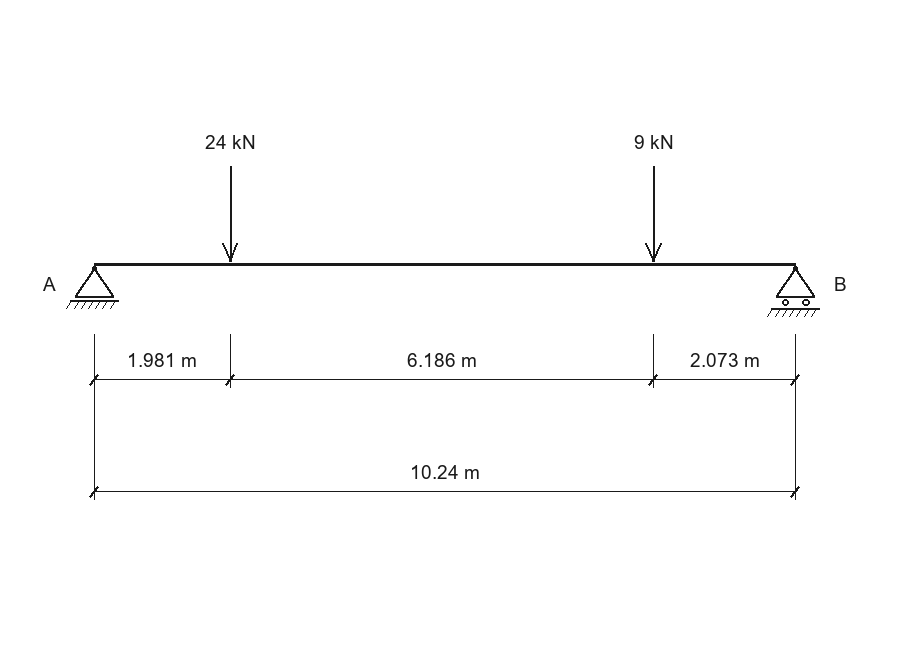pin_support: (66, 266, 119, 309)
point_load: (645, 166, 662, 262), (222, 166, 238, 262)
roller_support: (767, 266, 820, 317)
